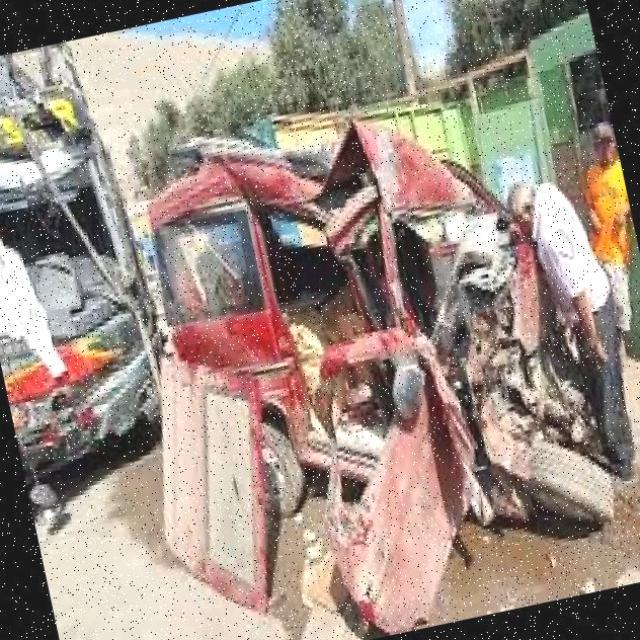accident: (110, 64, 640, 640), (0, 33, 185, 479)
